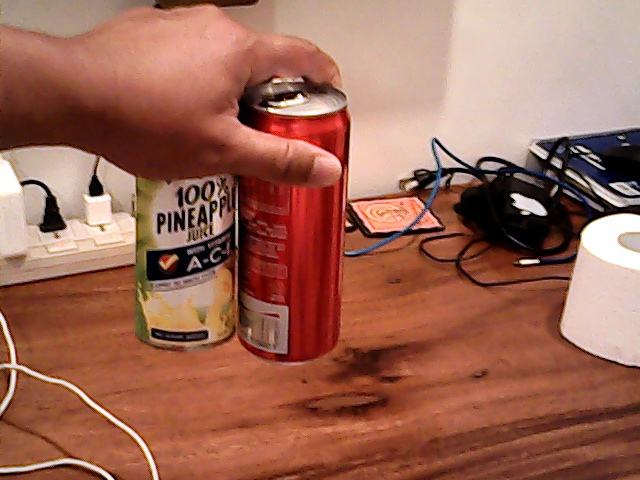Cola: (231, 70, 371, 362)
Pine Juice: (125, 158, 237, 351)
